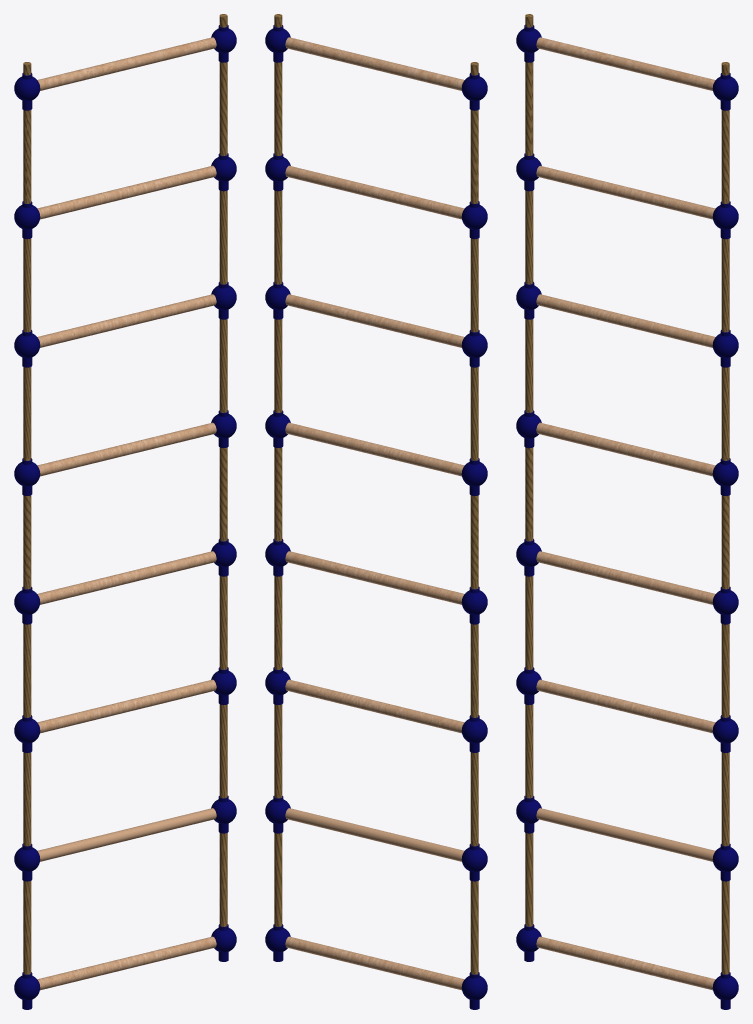
The model's file is ladder.fbx.
The picture shows the model from 3 angles, left to right: view 1: azimuth 30°, elevation 25°; view 2: azimuth 150°, elevation 25°; view 3: azimuth 330°, elevation 25°; orthographic projection.
Parts seen in each view (by area): view 1: Sphere.023, Sphere.005, Sphere.011, Sphere.014, Sphere.020, Sphere.002, Sphere.017, Sphere.008, Cylinder.005, Cylinder.002, Cylinder.013, Cylinder.006 (+26 smaller); view 2: Sphere.023, Sphere.005, Sphere.011, Sphere.014, Sphere.020, Sphere.002, Sphere.017, Sphere.008, Cylinder.005, Cylinder.002, Cylinder.013, Cylinder.006 (+26 smaller); view 3: Sphere.005, Sphere.017, Sphere.023, Sphere.002, Sphere.011, Sphere.014, Sphere.020, Sphere.008, Cylinder.002, Cylinder.005, Cylinder.006, Cylinder.013 (+26 smaller).
Boxes of the visible parts, x1=… form: Sphere.023: x1=37, y1=37, x2=216, y2=90; Sphere.005: x1=37, y1=808, x2=216, y2=861; Sphere.011: x1=37, y1=551, x2=216, y2=604; Sphere.014: x1=37, y1=422, x2=216, y2=476; Sphere.020: x1=37, y1=165, x2=216, y2=219; Sphere.002: x1=37, y1=936, x2=216, y2=990; Sphere.017: x1=37, y1=294, x2=216, y2=347; Sphere.008: x1=37, y1=679, x2=216, y2=733; Cylinder.005: x1=219, y1=14, x2=227, y2=150; Cylinder.002: x1=23, y1=62, x2=31, y2=198; Cylinder.013: x1=219, y1=530, x2=227, y2=664; Cylinder.006: x1=23, y1=578, x2=31, y2=711; Sphere.023: x1=285, y1=37, x2=464, y2=90; Sphere.005: x1=285, y1=808, x2=464, y2=861; Sphere.011: x1=285, y1=551, x2=464, y2=604; Sphere.014: x1=285, y1=422, x2=464, y2=476; Sphere.020: x1=285, y1=165, x2=464, y2=219; Sphere.002: x1=285, y1=936, x2=464, y2=990; Sphere.017: x1=285, y1=294, x2=464, y2=347; Sphere.008: x1=285, y1=679, x2=464, y2=733; Cylinder.005: x1=274, y1=14, x2=282, y2=150; Cylinder.002: x1=470, y1=62, x2=478, y2=198; Cylinder.013: x1=274, y1=530, x2=282, y2=664; Cylinder.006: x1=470, y1=578, x2=478, y2=711; Sphere.005: x1=536, y1=808, x2=715, y2=861; Sphere.017: x1=536, y1=294, x2=715, y2=347; Sphere.023: x1=536, y1=37, x2=715, y2=90; Sphere.002: x1=536, y1=936, x2=715, y2=990; Sphere.011: x1=536, y1=551, x2=715, y2=604; Sphere.014: x1=536, y1=422, x2=715, y2=476; Sphere.020: x1=536, y1=165, x2=715, y2=219; Sphere.008: x1=536, y1=679, x2=715, y2=733; Cylinder.002: x1=525, y1=14, x2=533, y2=150; Cylinder.005: x1=721, y1=62, x2=729, y2=198; Cylinder.006: x1=525, y1=530, x2=533, y2=663; Cylinder.013: x1=721, y1=578, x2=729, y2=711.
Size of the model in its own units: 2914 by 12000 by 301.
3 materials, 2 textured.
